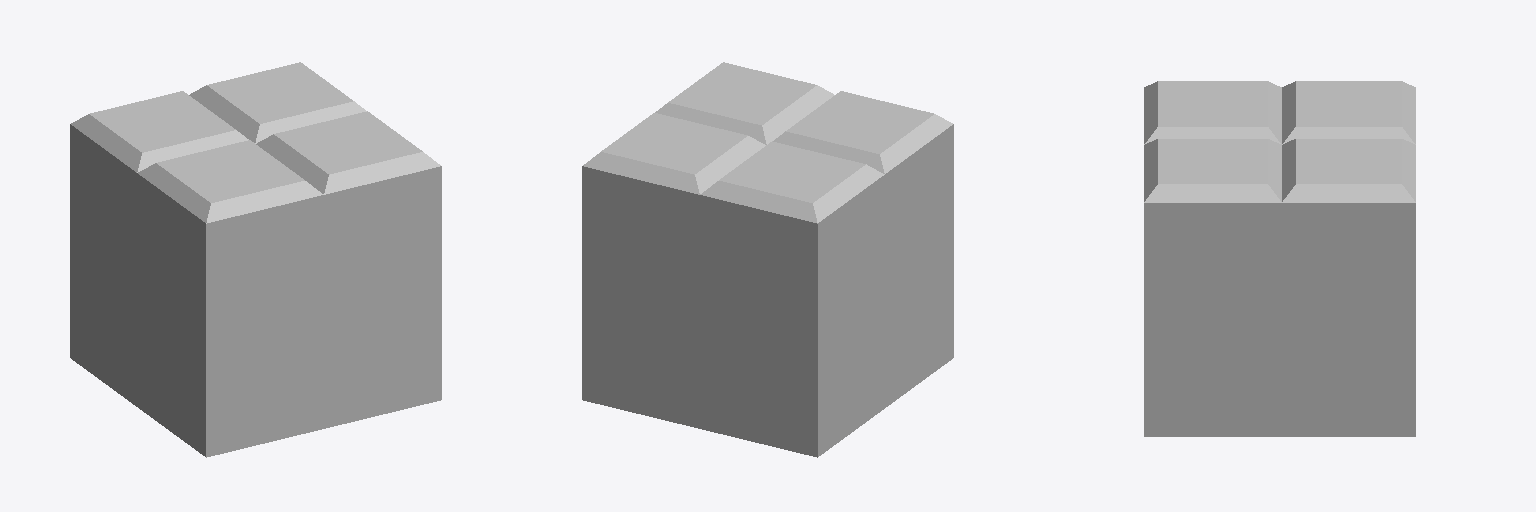
File: Big cube.obj
3 views of the same model, side by side, from view 1: azimuth 30°, elevation 25°; view 2: azimuth 150°, elevation 25°; view 3: azimuth 270°, elevation 25° (orthographic).
Parts seen in each view (by area): view 1: obj_0.013; view 2: obj_0.013; view 3: obj_0.013.
Boxes of the visible parts, x1,y1,x2,y2 form: obj_0.013: [70, 62, 441, 457]; obj_0.013: [582, 62, 953, 457]; obj_0.013: [1144, 81, 1415, 436].
Bounding box in the file's own units: 20 × 20 × 20.